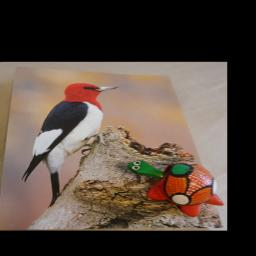Woodpecker: (21, 81, 118, 208)
